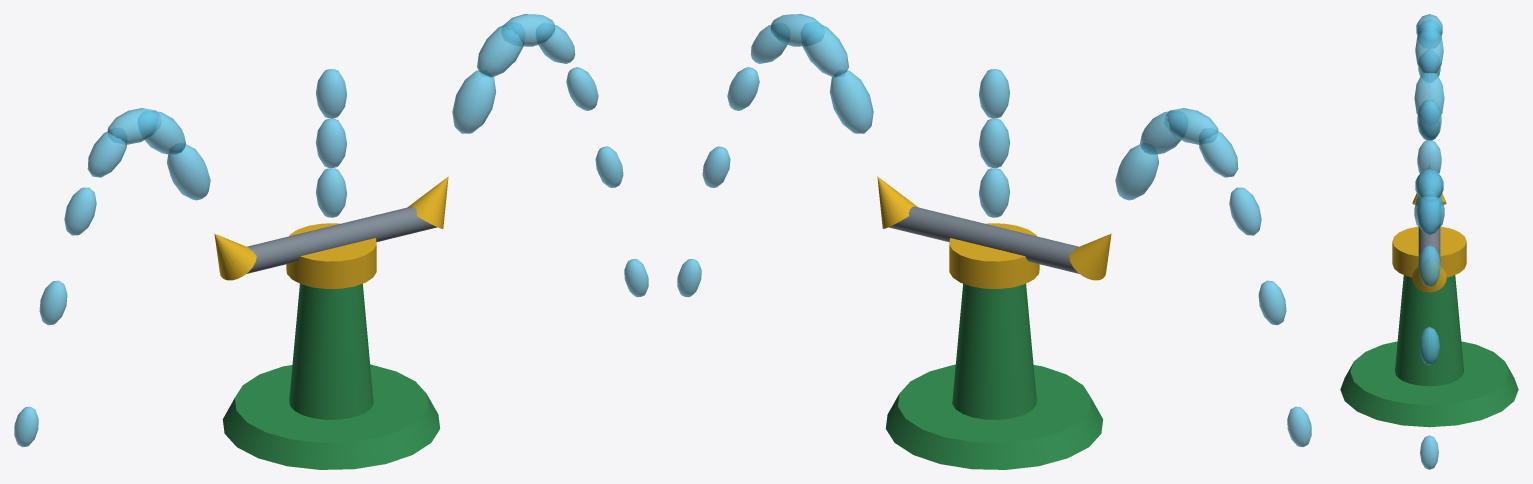
Rendered from sprinkler-lod0.glb.
3 views of the same model, side by side, from view 1: azimuth 30°, elevation 25°; view 2: azimuth 150°, elevation 25°; view 3: azimuth 270°, elevation 25° (orthographic). The views are drawn at different scales.
Visible parts, largest first — view 1: base, body, arm, head, nozzle (×2), spray-1-1, spray--1-1, spray-1-2, spray--1-2, spray--1-3, spray-1-3, spray--1-4 (+10 smaller); view 2: base, body, arm, head, nozzle (×2), spray-1-1, spray--1-1, spray-1-2, spray--1-2, spray--1-3, spray-1-3, spray--1-4 (+10 smaller); view 3: base, body, head, spray--1-1, spray--1-2, spray-1-4, nozzle, spray-1-1, jet-2, spray-1-5, spray-1-3, arm (+8 smaller).
Boxes of the visible parts, x1=… form: base: x1=222, y1=364, x2=440, y2=469; body: x1=289, y1=283, x2=373, y2=419; arm: x1=246, y1=206, x2=437, y2=273; head: x1=286, y1=223, x2=376, y2=288; nozzle (×2): x1=214, y1=176, x2=448, y2=280; spray-1-1: x1=452, y1=70, x2=495, y2=133; spray--1-1: x1=167, y1=143, x2=210, y2=200; spray-1-2: x1=477, y1=22, x2=524, y2=77; spray--1-2: x1=138, y1=111, x2=185, y2=154; spray--1-3: x1=107, y1=108, x2=160, y2=144; spray-1-3: x1=502, y1=14, x2=555, y2=46; spray--1-4: x1=87, y1=128, x2=126, y2=177; base: x1=885, y1=364, x2=1103, y2=469; body: x1=952, y1=283, x2=1036, y2=419; arm: x1=888, y1=206, x2=1079, y2=273; head: x1=949, y1=223, x2=1039, y2=288; nozzle (×2): x1=877, y1=176, x2=1111, y2=280; spray-1-1: x1=830, y1=70, x2=873, y2=133; spray--1-1: x1=1115, y1=143, x2=1158, y2=200; spray-1-2: x1=801, y1=22, x2=848, y2=77; spray--1-2: x1=1140, y1=111, x2=1187, y2=154; spray--1-3: x1=1165, y1=108, x2=1218, y2=144; spray-1-3: x1=770, y1=14, x2=823, y2=46; spray--1-4: x1=1199, y1=128, x2=1238, y2=177; base: x1=1340, y1=341, x2=1518, y2=427; body: x1=1395, y1=275, x2=1463, y2=386; head: x1=1392, y1=226, x2=1466, y2=277; spray--1-1: x1=1414, y1=71, x2=1444, y2=125; spray--1-2: x1=1415, y1=26, x2=1443, y2=74; spray-1-4: x1=1417, y1=191, x2=1441, y2=235; nozzle: x1=1412, y1=259, x2=1446, y2=292; spray-1-1: x1=1414, y1=197, x2=1444, y2=233; jet-2: x1=1417, y1=100, x2=1441, y2=140; spray-1-5: x1=1418, y1=245, x2=1440, y2=287; spray-1-3: x1=1416, y1=168, x2=1442, y2=202; arm: x1=1418, y1=226, x2=1440, y2=264.
Size of the model in its own units: 1.2 by 0.6558 by 0.36.
